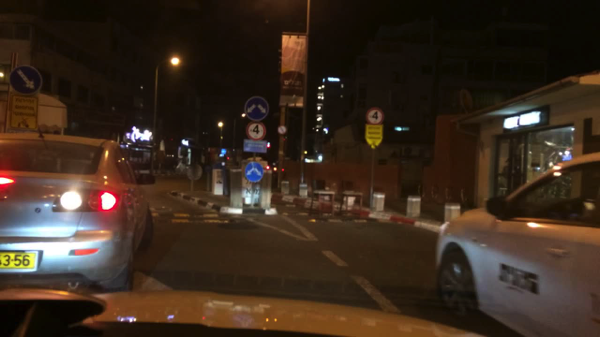car: (435, 152, 599, 336), (1, 132, 154, 293)
traffic sign: (8, 65, 43, 94), (10, 97, 38, 129), (244, 96, 269, 121), (365, 125, 383, 147), (244, 162, 263, 182), (246, 122, 266, 140), (365, 108, 383, 124), (243, 141, 266, 153), (186, 164, 202, 180), (279, 127, 285, 135), (205, 166, 210, 172), (221, 149, 226, 153), (220, 154, 223, 156)
truck: (120, 143, 156, 184)
